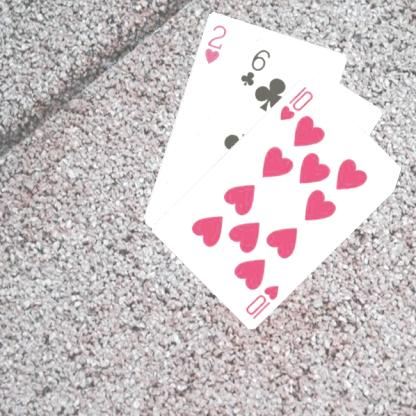10H: (276, 82, 315, 122), (242, 282, 280, 320)
2H: (201, 21, 228, 65)
6C: (237, 45, 272, 87)
